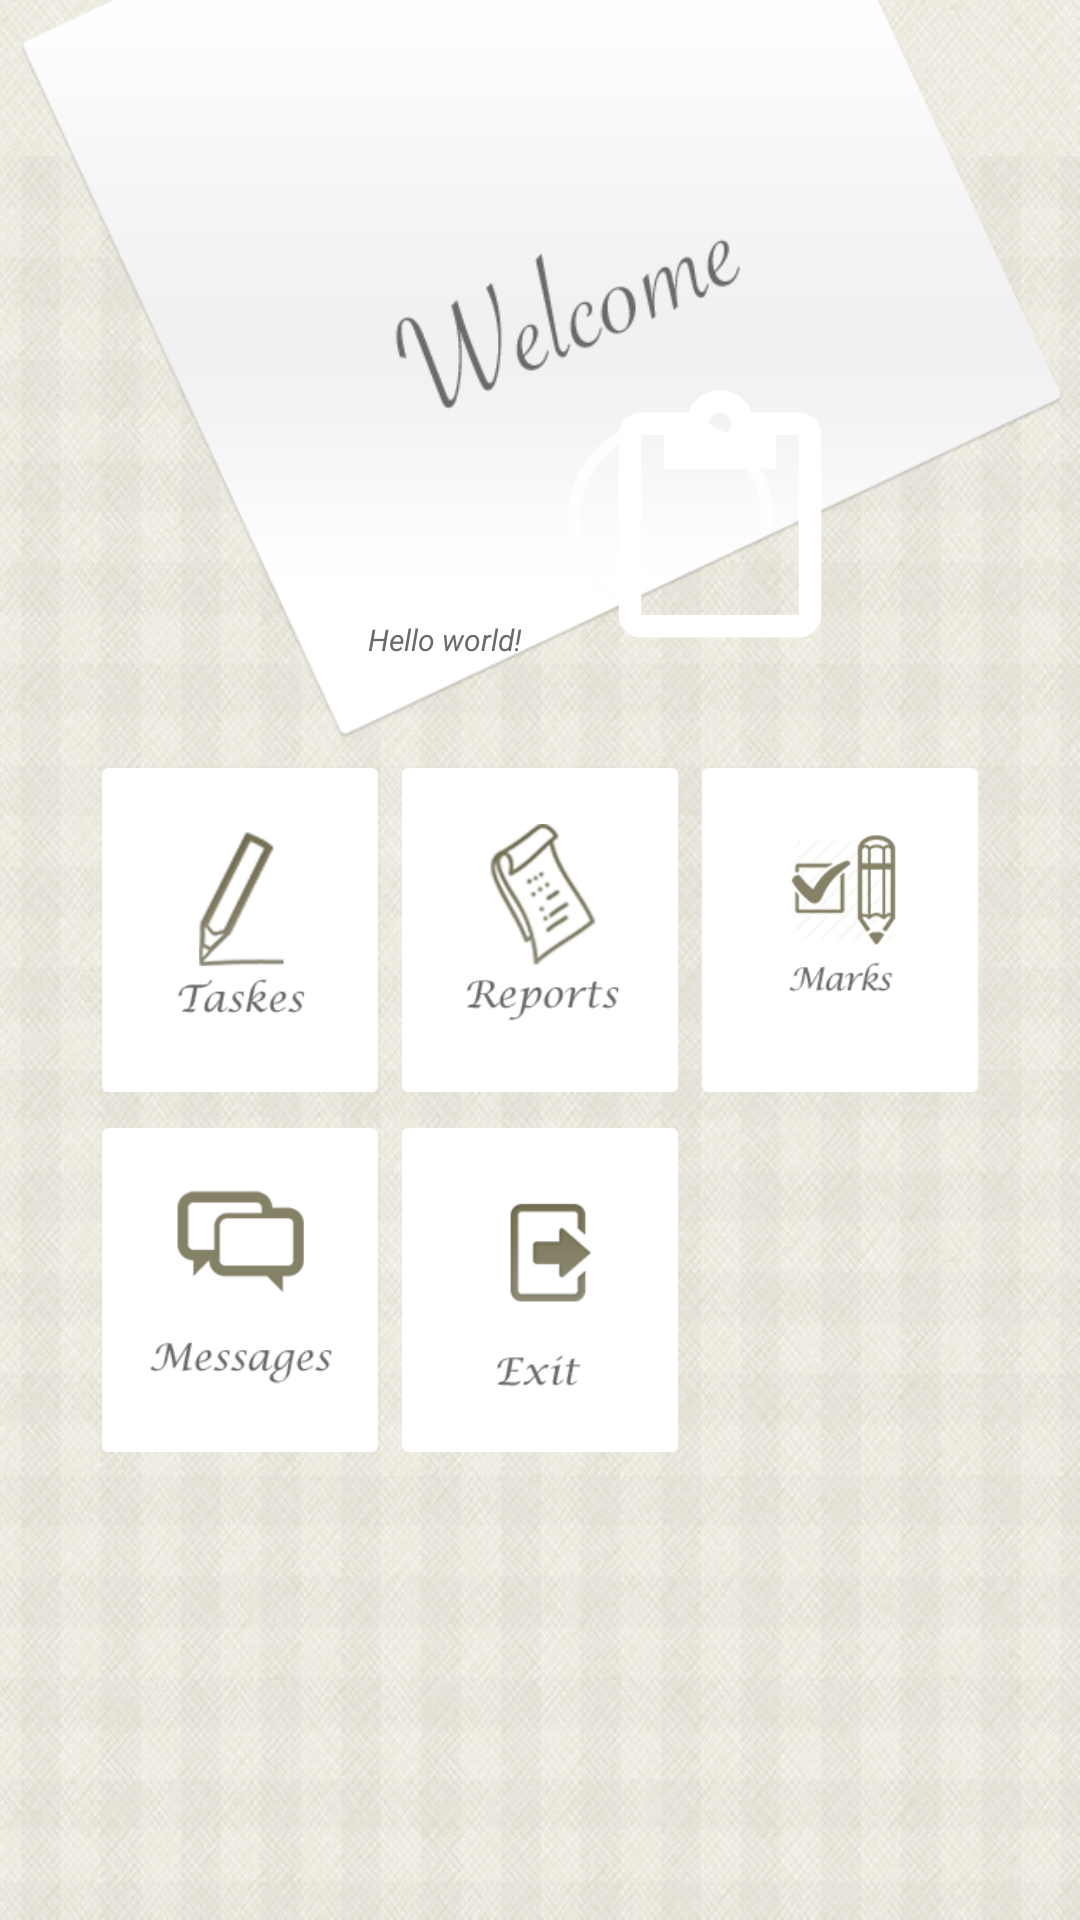

Icon click points for this 1080 x 1920 phone screenshot, format point (x, y):
paste: point (720, 525)
todo: point (840, 930)
